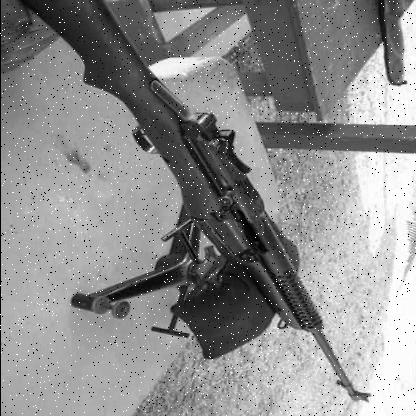rifle: (10, 0, 393, 409)
